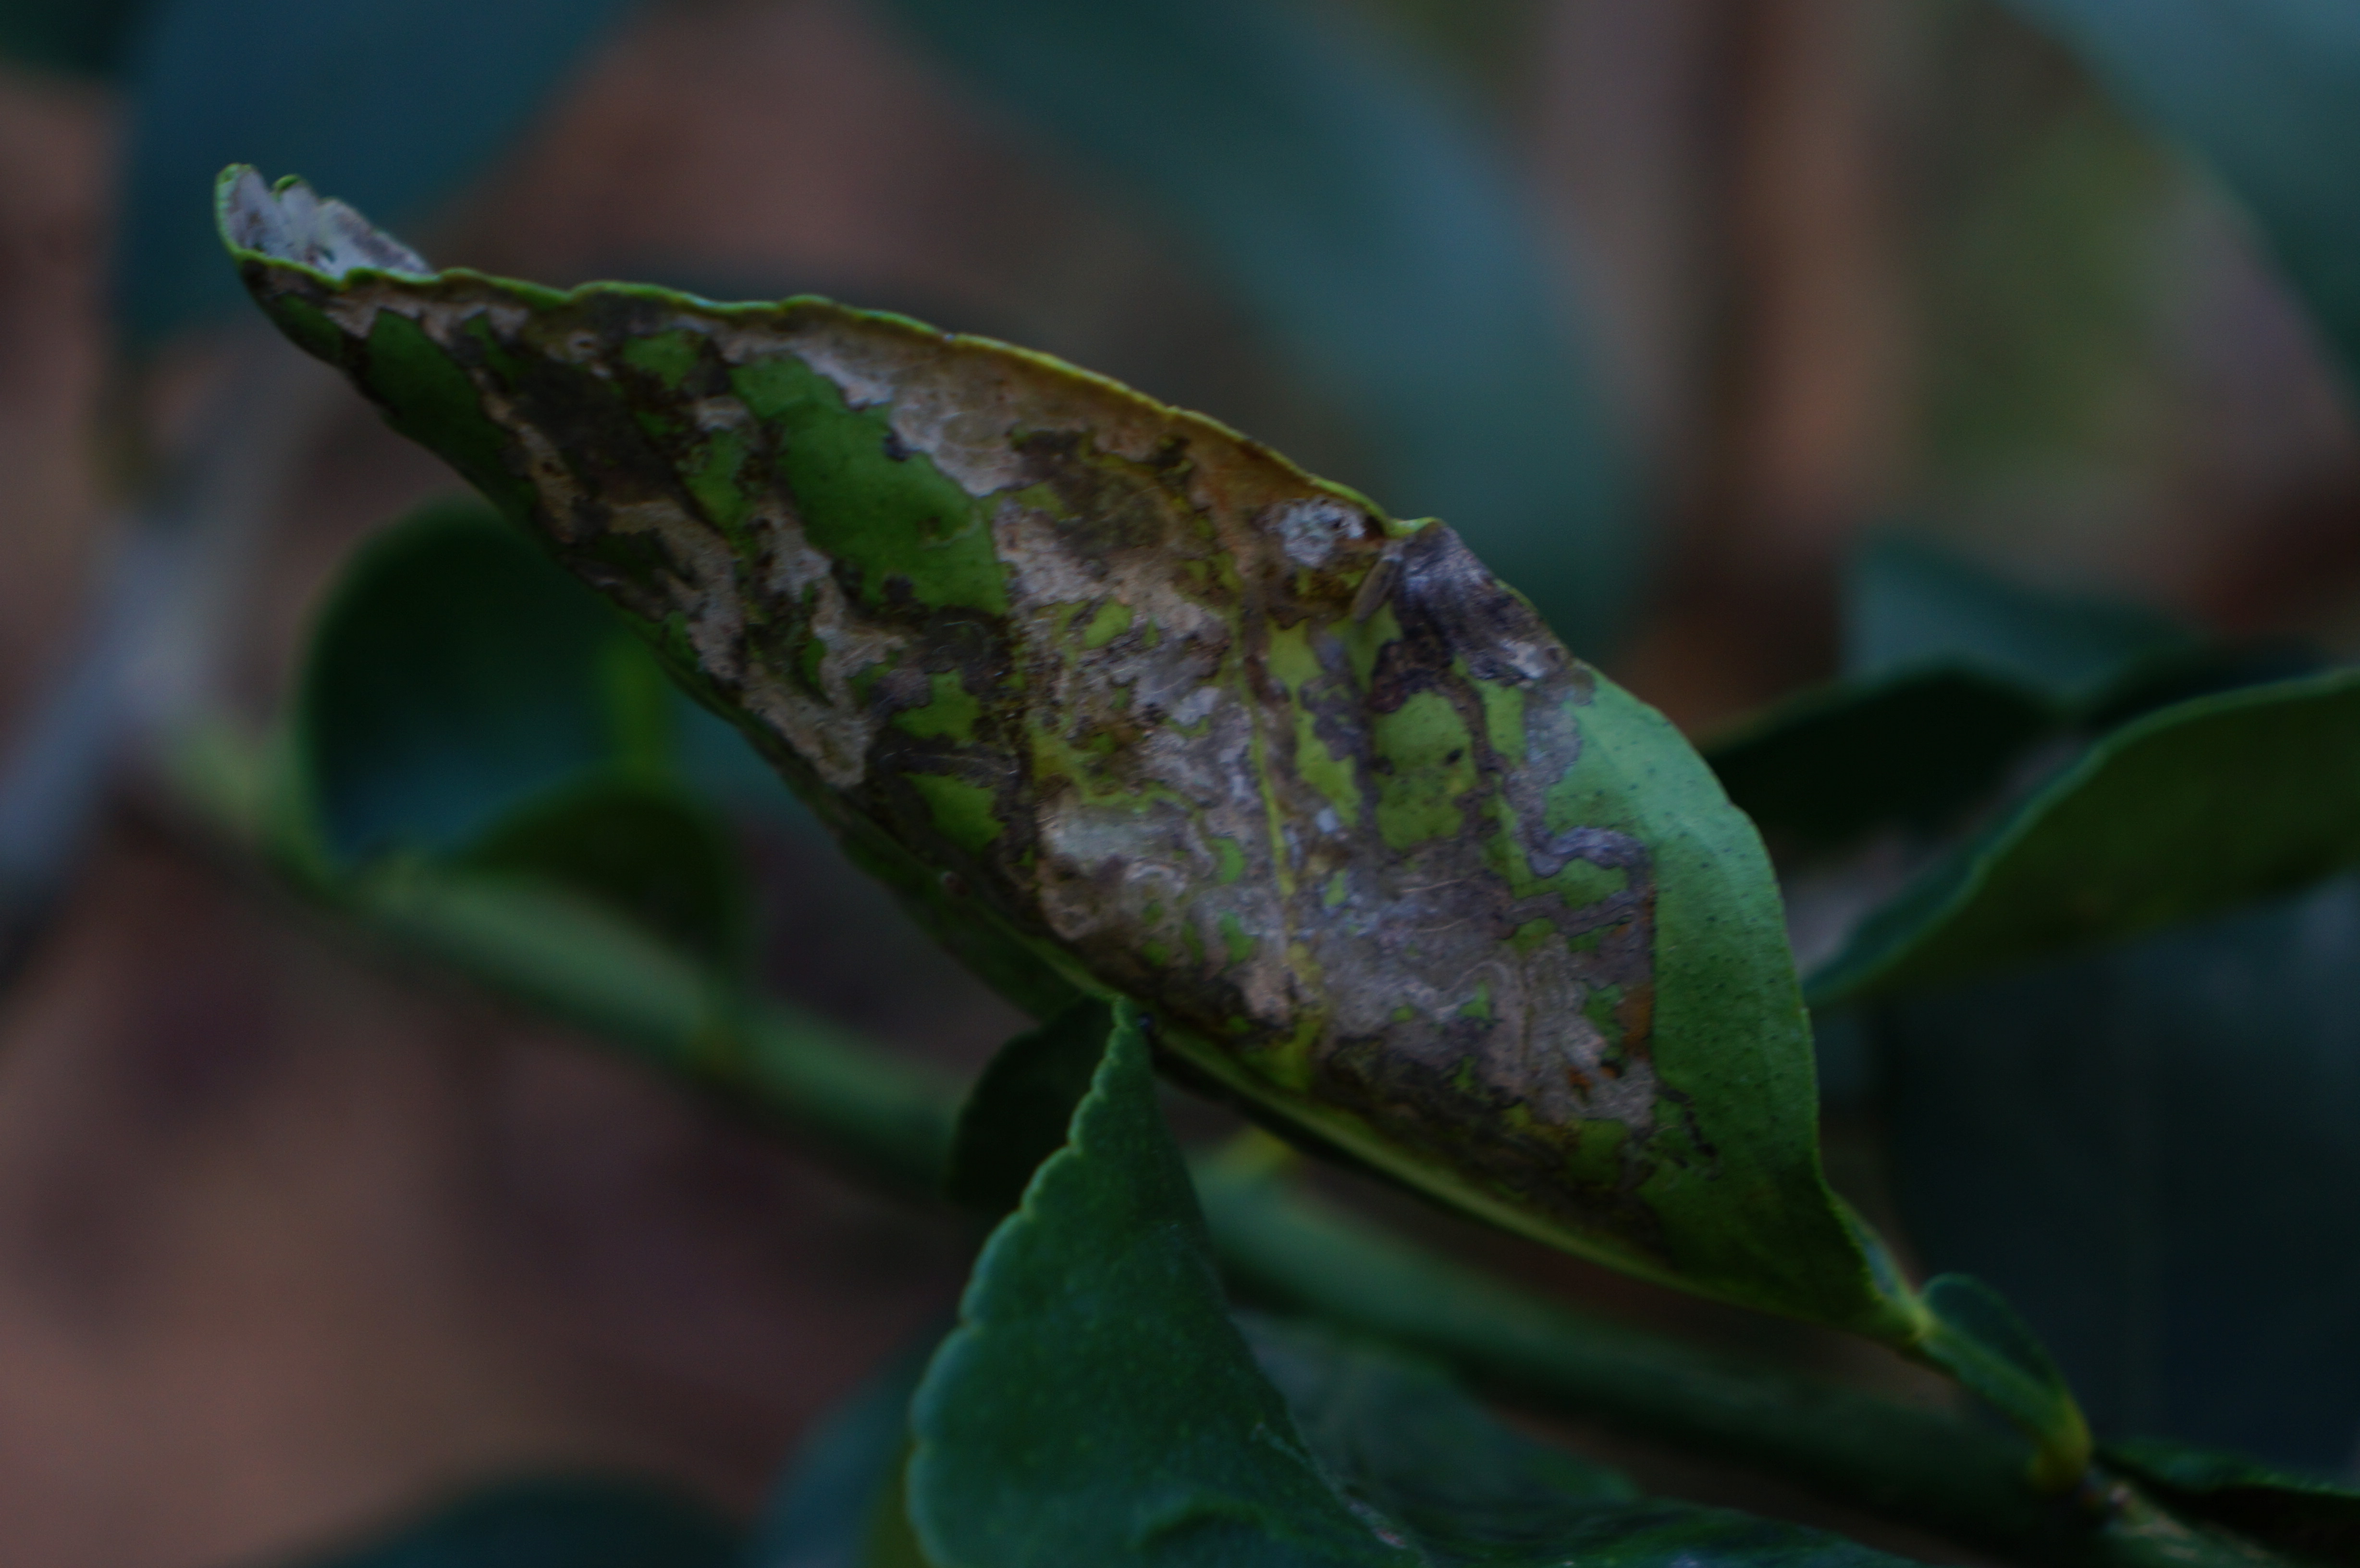damage: (208, 149, 1751, 1281)
